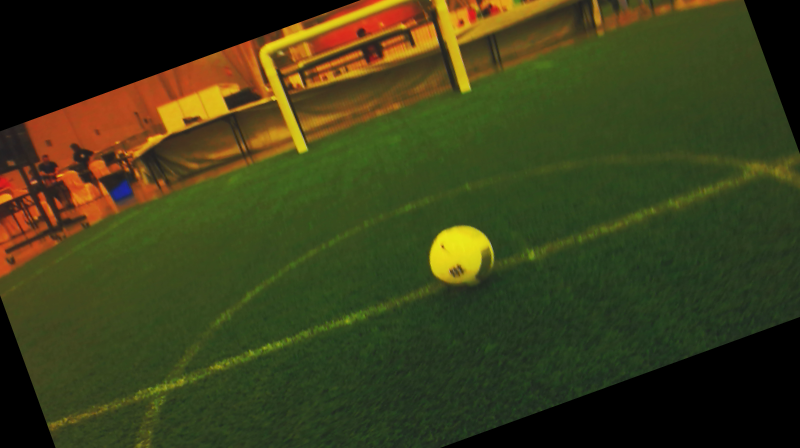post: (450, 71, 480, 100), (289, 133, 316, 161)
